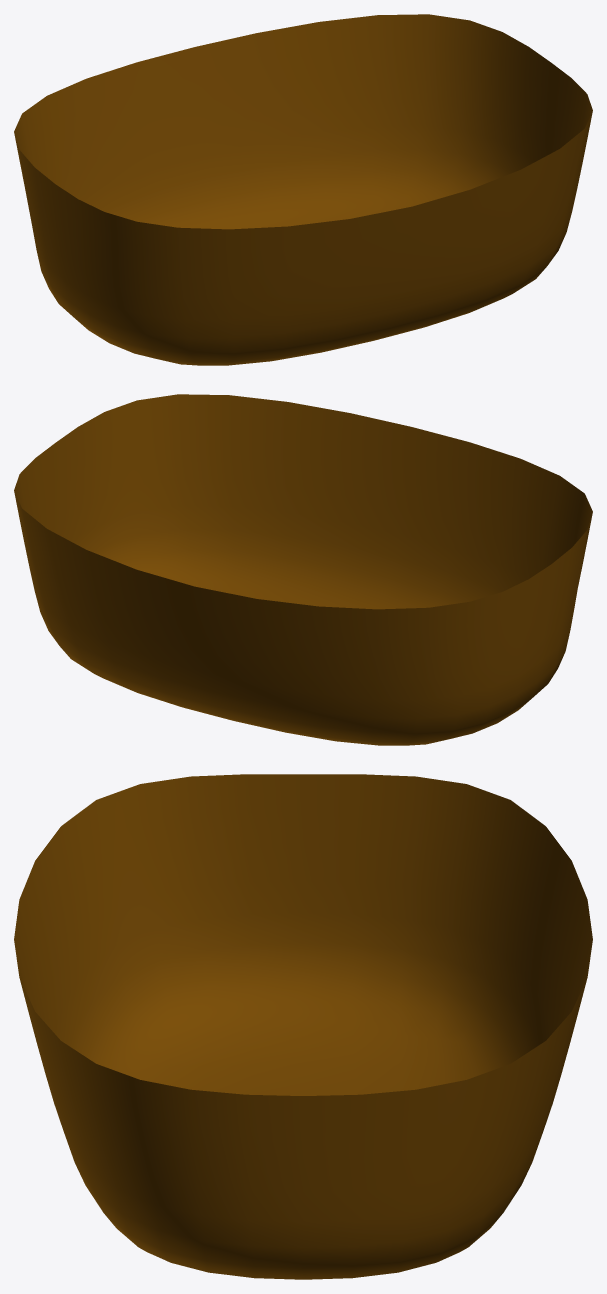
Rendered from PaperBowl.fbx.
3 views of the same model, one above another, from view 1: azimuth 30°, elevation 25°; view 2: azimuth 150°, elevation 25°; view 3: azimuth 270°, elevation 25° (orthographic). The views are drawn at different scales.
Visible parts, largest first — view 1: 立方体; view 2: 立方体; view 3: 立方体.
Boxes of the visible parts, <box> form: 立方体: <box>14,14,592,365</box>; 立方体: <box>14,394,592,745</box>; 立方体: <box>14,774,592,1279</box>.
Size of the model in its own units: 41.86 by 14.53 by 31.81.
